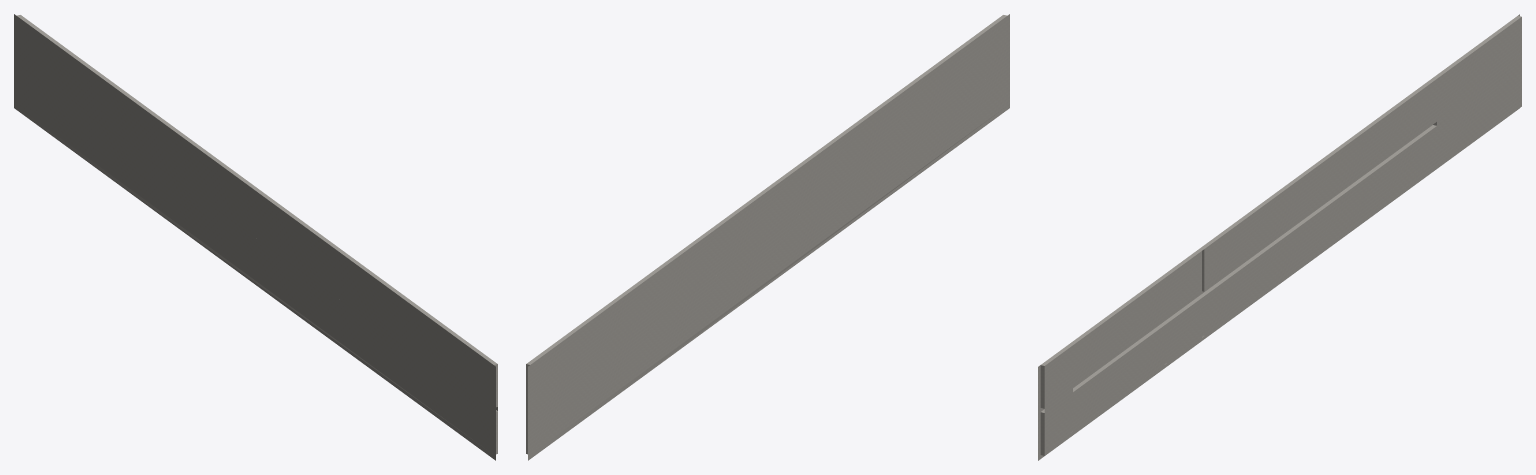
The model's file is FrontWall.obj.
3 renders of one model, left to right at view 1: azimuth 30°, elevation 25°; view 2: azimuth 150°, elevation 25°; view 3: azimuth 330°, elevation 25°, orthographic.
Visible parts, largest first — view 1: Box011; view 2: Box011; view 3: Box011.
Part boxes in pixels (x1=…): Box011: x1=14, y1=14, x2=497, y2=460; Box011: x1=526, y1=14, x2=1009, y2=460; Box011: x1=1038, y1=14, x2=1521, y2=460.
Bounding box in the file's own units: 11.83 × 260 × 2409.
